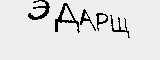А: (76, 8, 99, 34)
Д: (52, 2, 83, 34)
Р: (92, 11, 110, 35)
Щ: (110, 15, 133, 41)
Э: (25, 1, 52, 24)
